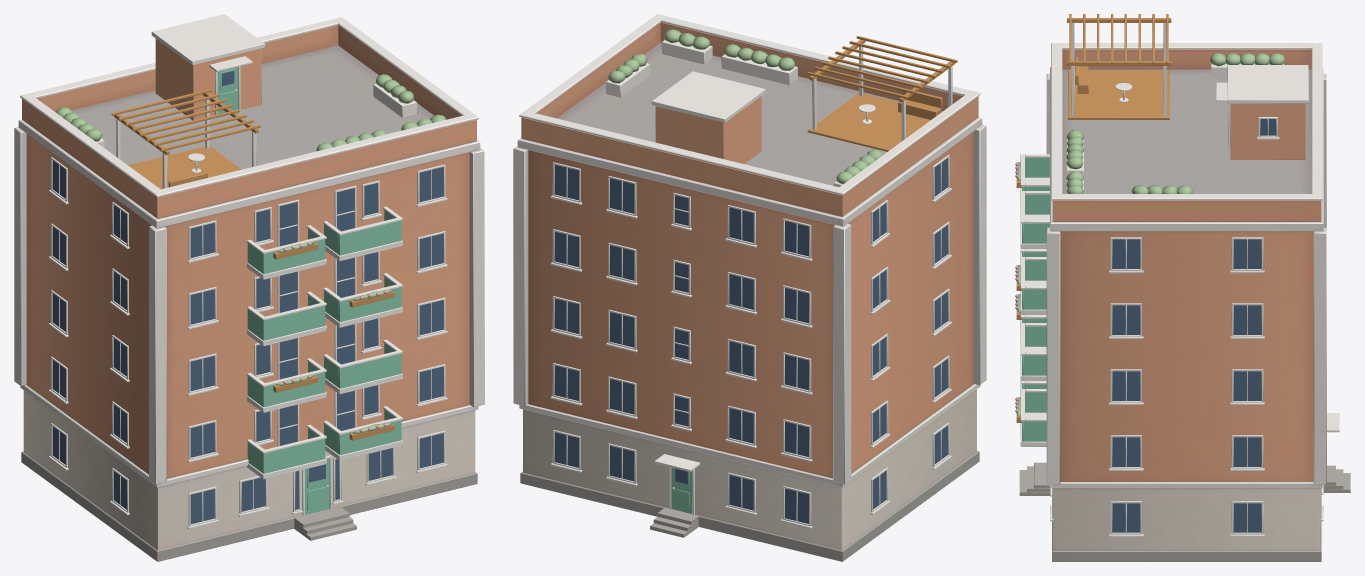
Rendered from apartment-building.glb.
3 views of the same model, side by side, from view 1: azimuth 30°, elevation 25°; view 2: azimuth 150°, elevation 25°; view 3: azimuth 270°, elevation 25° (orthographic).
Visible parts, largest first — view 1: apartment-building_body, apartment-building_details, apartment-building_roof_terrace, apartment-building_shrubs; view 2: apartment-building_body, apartment-building_details, apartment-building_roof_terrace, apartment-building_shrubs; view 3: apartment-building_body, apartment-building_details, apartment-building_roof_terrace, apartment-building_shrubs.
Part boxes in pixels (x1,y1,x2,y2): apartment-building_body: [14, 17, 484, 561]; apartment-building_details: [48, 157, 447, 540]; apartment-building_roof_terrace: [96, 14, 417, 189]; apartment-building_shrubs: [56, 74, 446, 433]; apartment-building_body: [513, 14, 986, 561]; apartment-building_details: [550, 155, 951, 537]; apartment-building_roof_terrace: [606, 36, 957, 187]; apartment-building_shrubs: [608, 29, 882, 184]; apartment-building_body: [1046, 43, 1326, 561]; apartment-building_details: [1015, 154, 1350, 536]; apartment-building_roof_terrace: [1067, 14, 1308, 193]; apartment-building_shrubs: [1016, 53, 1285, 416].
Bounding box in the file's own units: 15.56 × 18.3 × 13.82.
13 materials, 1 textured.
